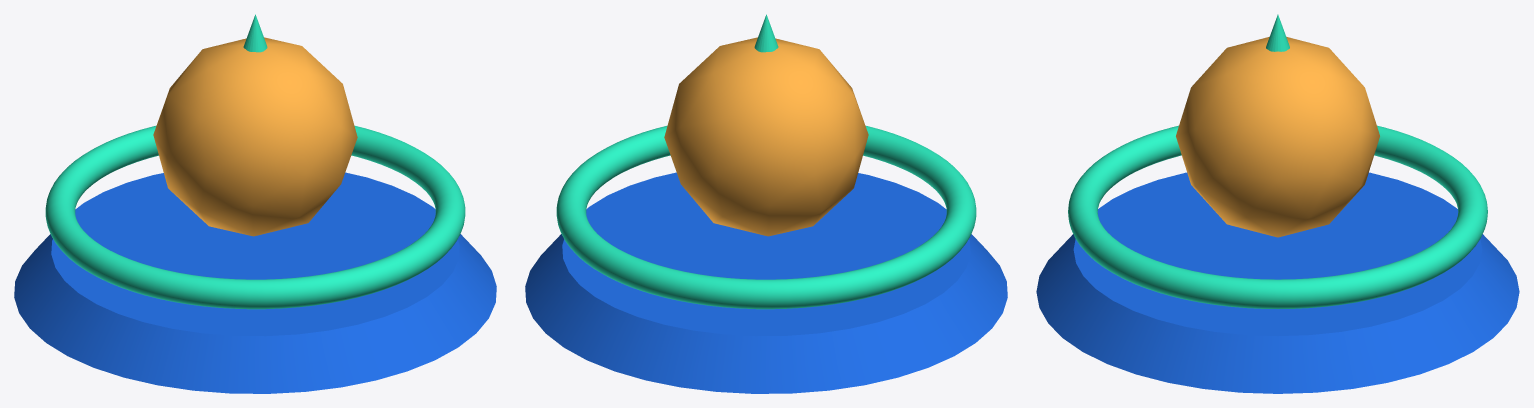
The picture shows the model from 3 angles, left to right: view 1: azimuth 30°, elevation 25°; view 2: azimuth 150°, elevation 25°; view 3: azimuth 270°, elevation 25°; orthographic projection.
Size of the model in its own units: 2.6 by 1.65 by 2.6.
